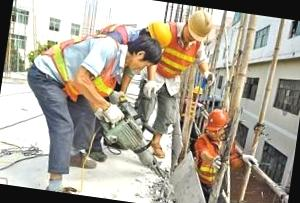no_helmet: (124, 34, 167, 76)
